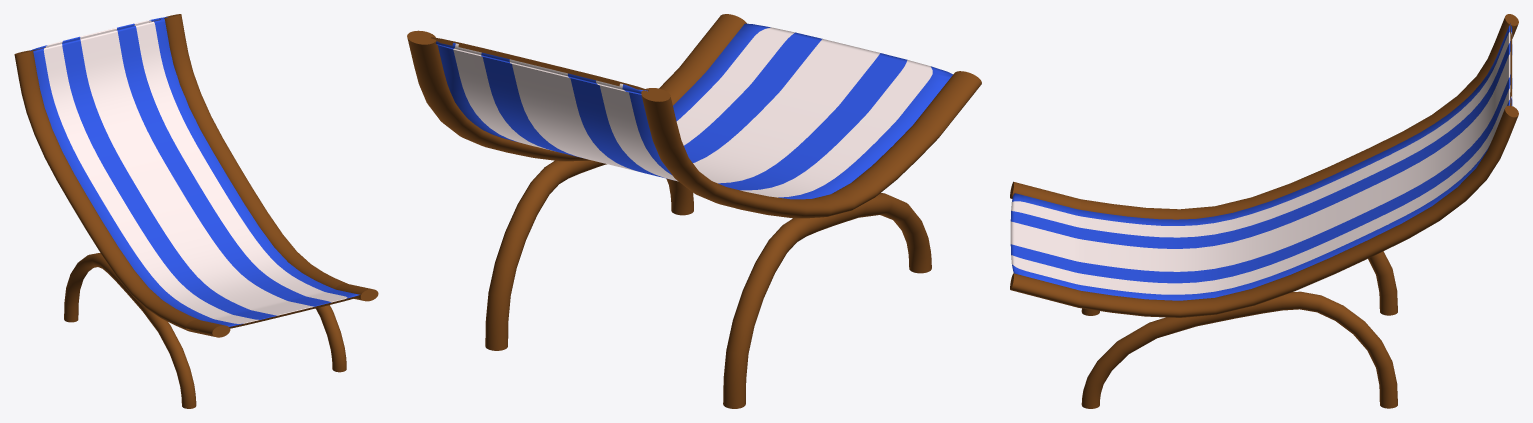
File: beachHammockBlue.fbx
The picture shows the model from 3 angles, left to right: view 1: azimuth 30°, elevation 25°; view 2: azimuth 150°, elevation 25°; view 3: azimuth 270°, elevation 25°; orthographic projection. The views are drawn at different scales.
Visible parts, largest first — view 1: Hammock.001, Hammock; view 2: Hammock.001, Hammock; view 3: Hammock.001, Hammock.
Boxes of the visible parts, left/top/right/bottom form: Hammock.001: left=30, top=17, right=359, bottom=332; Hammock: left=14, top=14, right=378, bottom=408; Hammock.001: left=431, top=23, right=960, bottom=199; Hammock: left=407, top=14, right=981, bottom=408; Hammock.001: left=1010, top=22, right=1512, bottom=300; Hammock: left=1010, top=14, right=1518, bottom=408.
Bounding box in the file's own units: 254 × 342 × 532.
